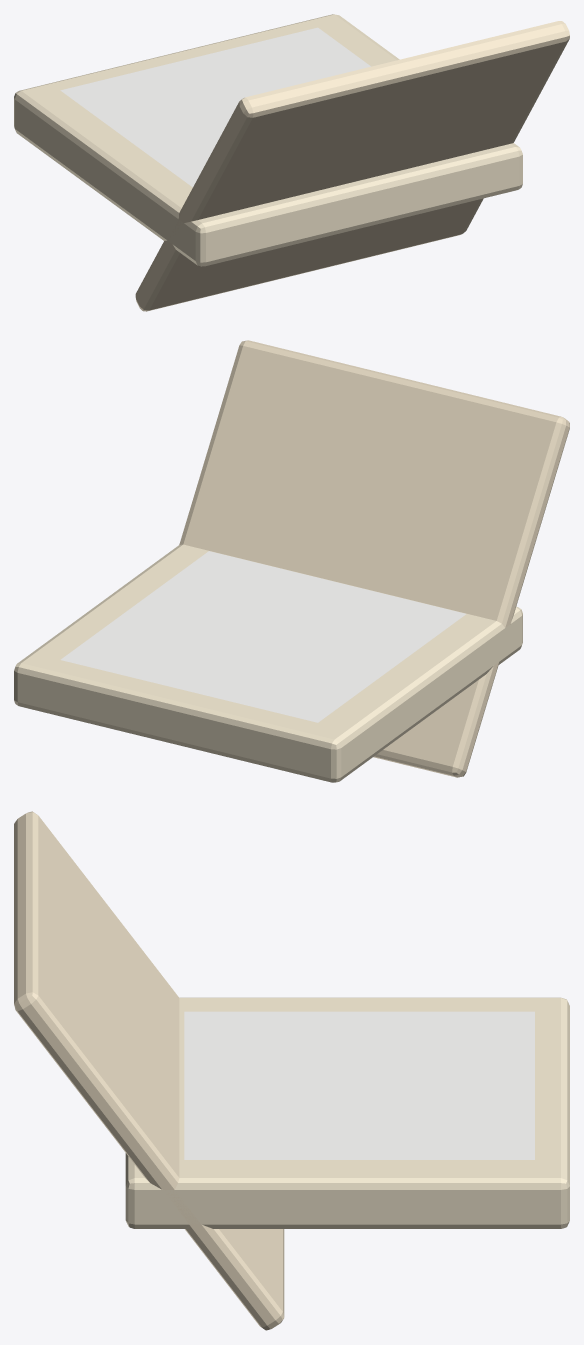
File: pizza box.glb
The picture shows the model from 3 angles, top to bottom: view 1: azimuth 30°, elevation 25°; view 2: azimuth 150°, elevation 25°; view 3: azimuth 270°, elevation 25°; orthographic projection. The views are drawn at different scales.
Parts seen in each view (by area): view 1: pizza_box; view 2: pizza_box; view 3: pizza_box.
Part boxes in pixels (<box>): pizza_box: <box>14,14,569,311</box>; pizza_box: <box>14,340,569,782</box>; pizza_box: <box>14,811,569,1330</box>.
Size of the model in its own units: 1.23 by 1.04 by 1.55.
